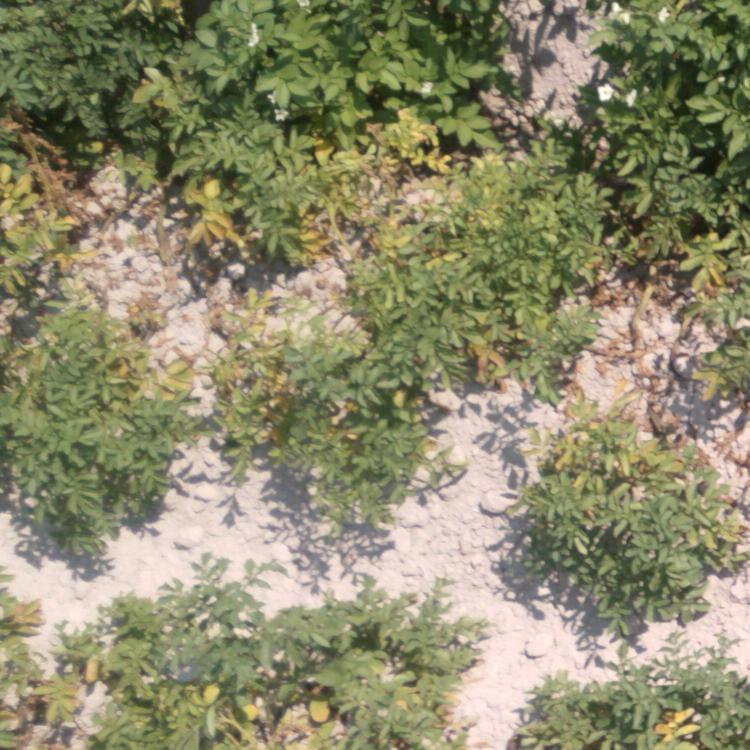healthy: (577, 1, 746, 192), (226, 1, 476, 90), (1, 1, 207, 103), (10, 427, 154, 546), (269, 427, 402, 535)
stressed: (522, 397, 740, 607), (346, 113, 574, 281), (7, 606, 246, 745), (138, 100, 327, 260), (261, 616, 479, 748), (227, 303, 419, 419), (11, 307, 205, 419), (648, 208, 747, 388), (1, 117, 90, 304), (427, 287, 595, 383), (524, 679, 746, 744)
